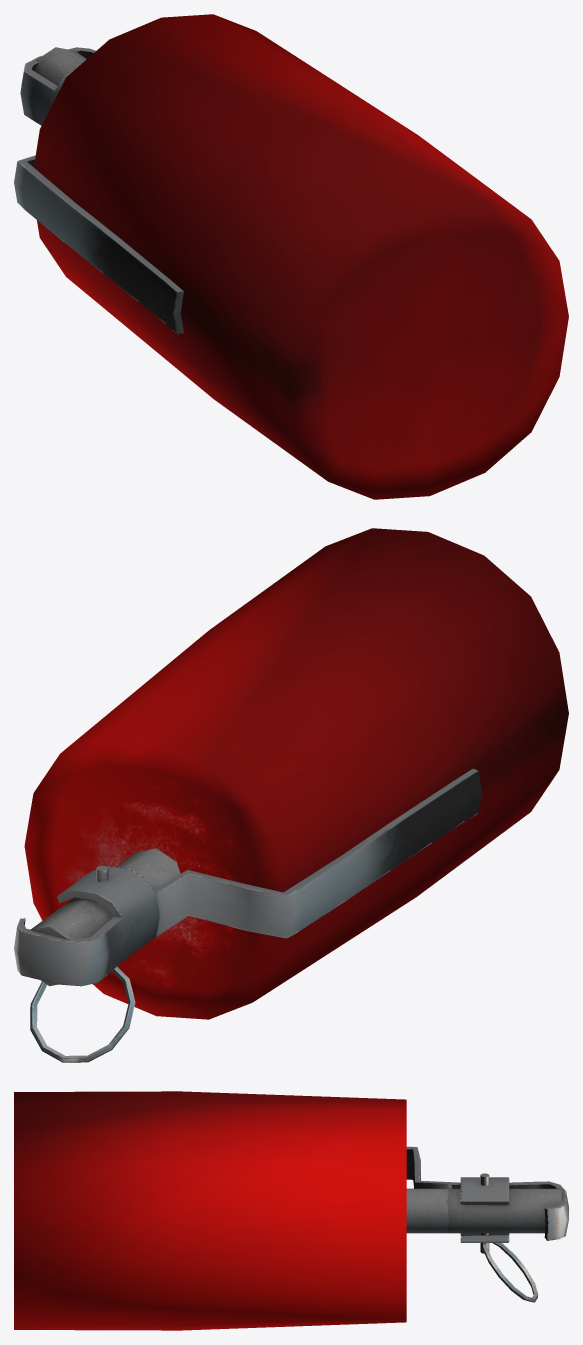
File: GrenadeInsendiaryForShop.fbx
The picture shows the model from 3 angles, top to bottom: view 1: azimuth 30°, elevation 25°; view 2: azimuth 150°, elevation 25°; view 3: azimuth 270°, elevation 25°; orthographic projection. The views are drawn at different scales.
Parts seen in each view (by area): view 1: Cube.001; view 2: Cube.001; view 3: Cube.001.
Part boxes in pixels (left/top/right/bottom): Cube.001: left=14, top=14, right=568, bottom=499; Cube.001: left=14, top=528, right=568, bottom=1062; Cube.001: left=14, top=1091, right=568, bottom=1330.
Bounding box in the file's own units: 2.76 × 2.62 × 6.17.
